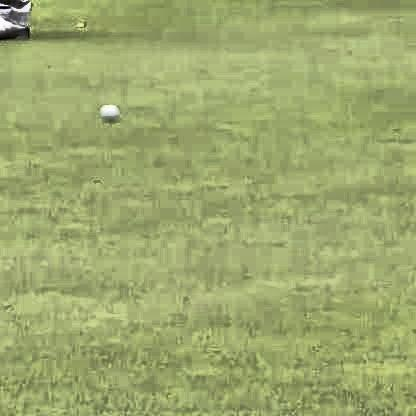golfball: (96, 99, 117, 121)
